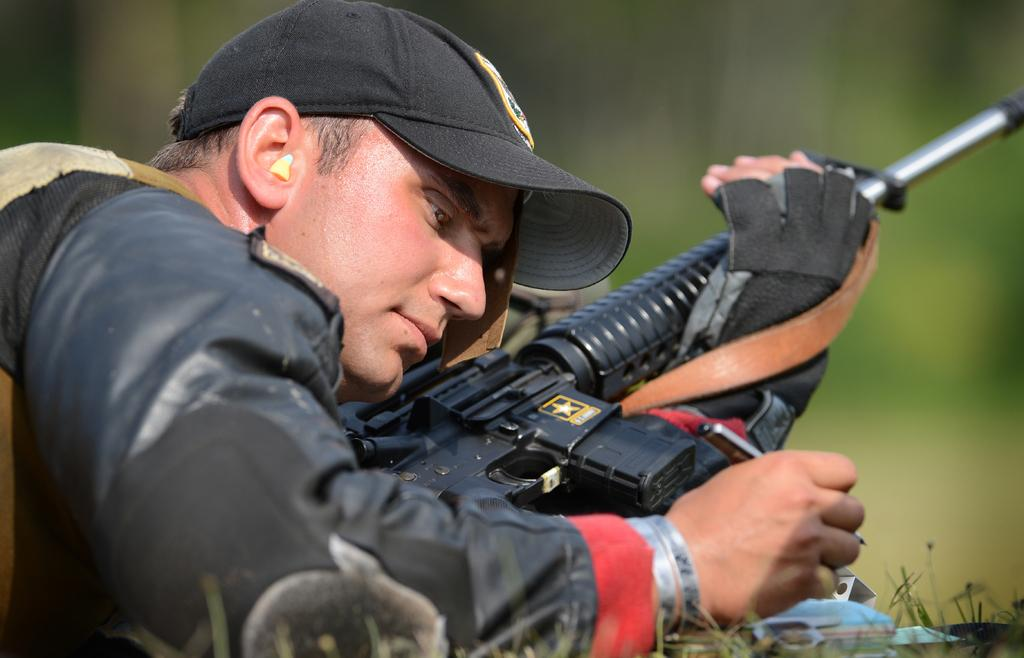Hat: (170, 0, 636, 291)
